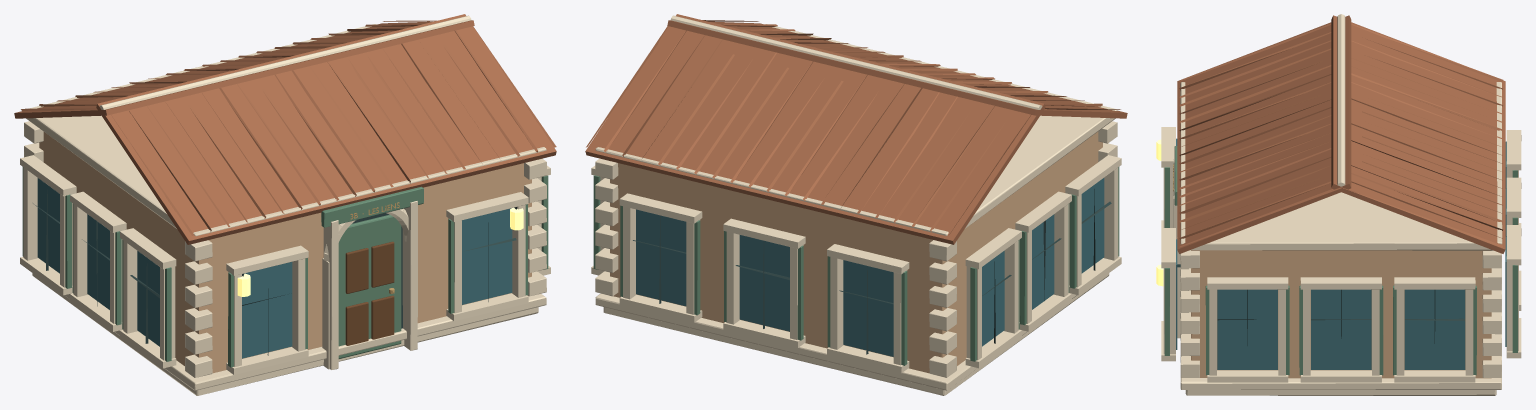
The model's file is italie-1-lod.glb.
3 renders of one model, left to right at view 1: azimuth 30°, elevation 25°; view 2: azimuth 150°, elevation 25°; view 3: azimuth 270°, elevation 25°, orthographic. The views are drawn at different scales.
Visible parts, largest first — view 1: italie-1_Regional roof.001, italie-1_Dressed stone.001, italie-1_Masonry plaster.001, italie-1_Window blue.001, italie-1_Regional painted wood.001, italie-1_Walnut.001, italie-1_Forged midnight.001, italie-1_Warm light.001; view 2: italie-1_Regional roof.001, italie-1_Dressed stone.001, italie-1_Masonry plaster.001, italie-1_Window blue.001, italie-1_Regional painted wood.001, italie-1_Forged midnight.001; view 3: italie-1_Regional roof.001, italie-1_Dressed stone.001, italie-1_Window blue.001, italie-1_Masonry plaster.001, italie-1_Regional painted wood.001, italie-1_Forged midnight.001.
Part boxes in pixels (<box>): italie-1_Regional roof.001: <box>14,14,556,244</box>; italie-1_Dressed stone.001: <box>20,15,550,395</box>; italie-1_Masonry plaster.001: <box>39,132,531,373</box>; italie-1_Window blue.001: <box>37,178,512,358</box>; italie-1_Regional painted wood.001: <box>22,167,548,367</box>; italie-1_Walnut.001: <box>345,241,394,345</box>; italie-1_Forged midnight.001: <box>33,189,516,355</box>; italie-1_Warm light.001: <box>237,207,523,296</box>; italie-1_Regional roof.001: <box>585,14,1127,244</box>; italie-1_Dressed stone.001: <box>591,15,1121,395</box>; italie-1_Masonry plaster.001: <box>610,131,1102,373</box>; italie-1_Window blue.001: <box>636,178,1104,356</box>; italie-1_Regional painted wood.001: <box>593,167,1119,365</box>; italie-1_Forged midnight.001: <box>633,189,1111,354</box>; italie-1_Regional roof.001: <box>1177,15,1505,253</box>; italie-1_Dressed stone.001: <box>1161,14,1521,395</box>; italie-1_Window blue.001: <box>1176,138,1506,369</box>; italie-1_Masonry plaster.001: <box>1191,250,1491,378</box>; italie-1_Regional painted wood.001: <box>1164,146,1517,375</box>; italie-1_Forged midnight.001: <box>1177,264,1465,345</box>.
Bounding box in the file's own units: 13.93 × 8.03 × 12.08.
